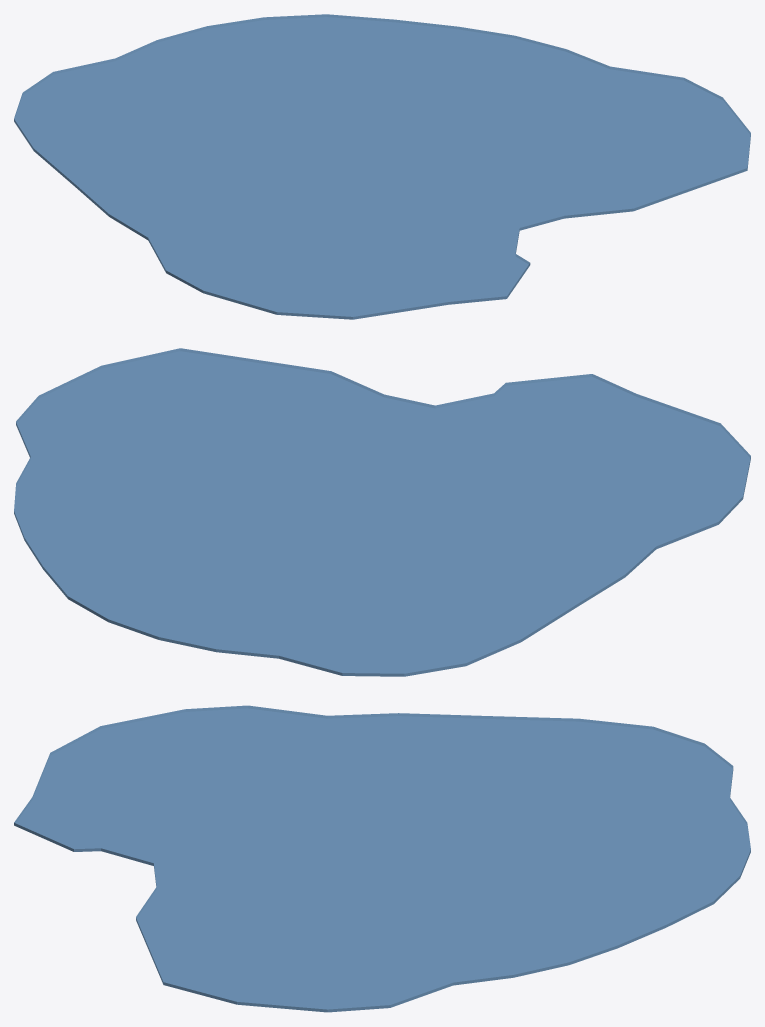
The model's file is Pond.fbx.
The picture shows the model from 3 angles, top to bottom: view 1: azimuth 30°, elevation 25°; view 2: azimuth 150°, elevation 25°; view 3: azimuth 270°, elevation 25°; orthographic projection. The views are drawn at different scales.
Parts seen in each view (by area): view 1: Pond; view 2: Pond; view 3: Pond.
Part boxes in pixels (left/top/right/bottom): Pond: left=14, top=14, right=750, bottom=319; Pond: left=14, top=348, right=750, bottom=676; Pond: left=14, top=705, right=750, bottom=1012.
Bounding box in the file's own units: 223 × 1 × 229.
